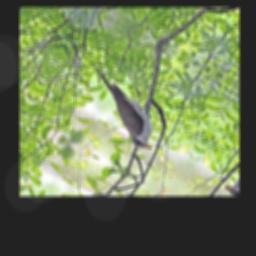Cuckoo: (62, 59, 181, 154)
